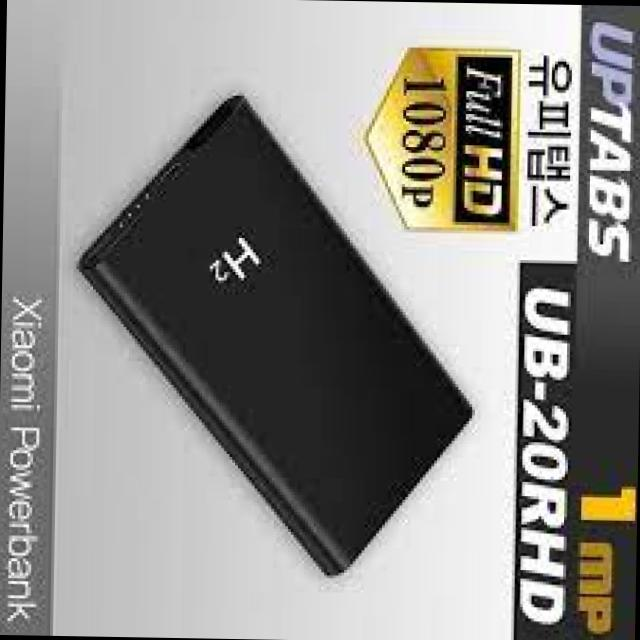power_bank: (70, 91, 478, 588)
